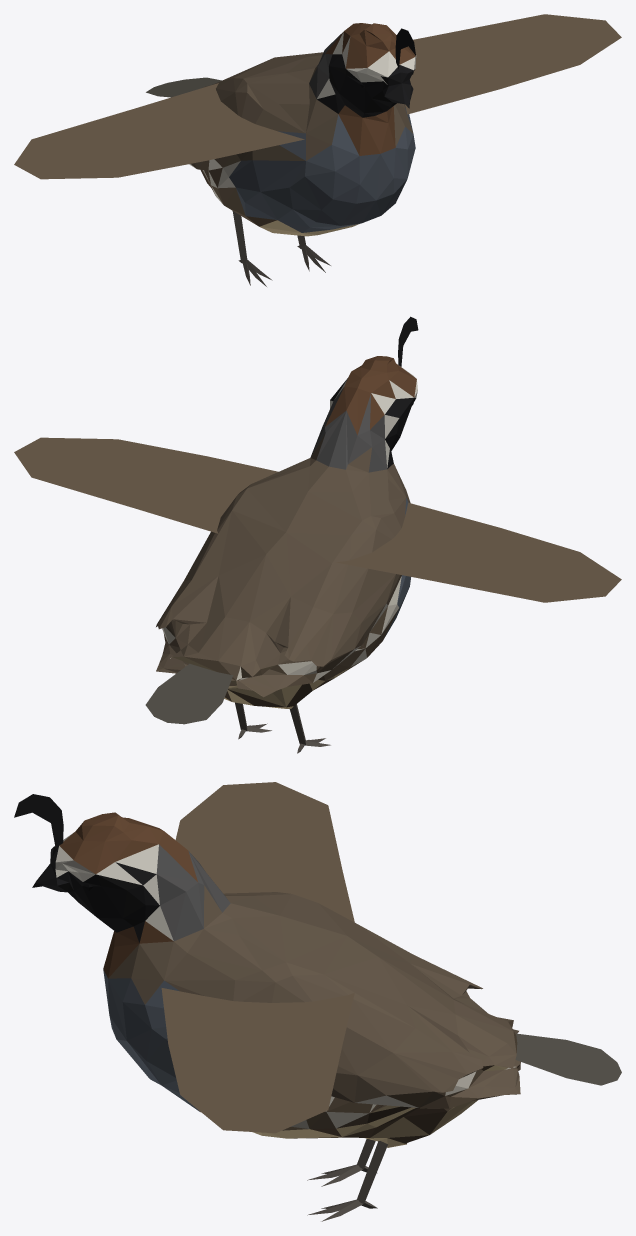
The model's file is quail.glb.
3 views of the same model, one above another, from view 1: azimuth 30°, elevation 25°; view 2: azimuth 150°, elevation 25°; view 3: azimuth 270°, elevation 25° (orthographic). The views are drawn at different scales.
Visible parts, largest first — view 1: lod0; view 2: lod0; view 3: lod0.
Boxes of the visible parts, x1,y1,x2,y2 form: lod0: (14, 14, 621, 286); lod0: (14, 316, 621, 753); lod0: (14, 782, 621, 1221).
Size of what is drawn, in the model's own units: 0.348 by 0.1869 by 0.2545.
